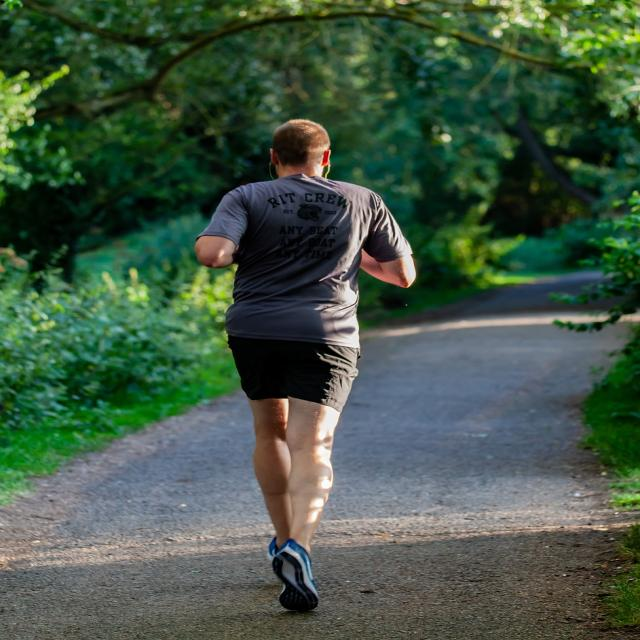Person: (194, 120, 415, 615)
